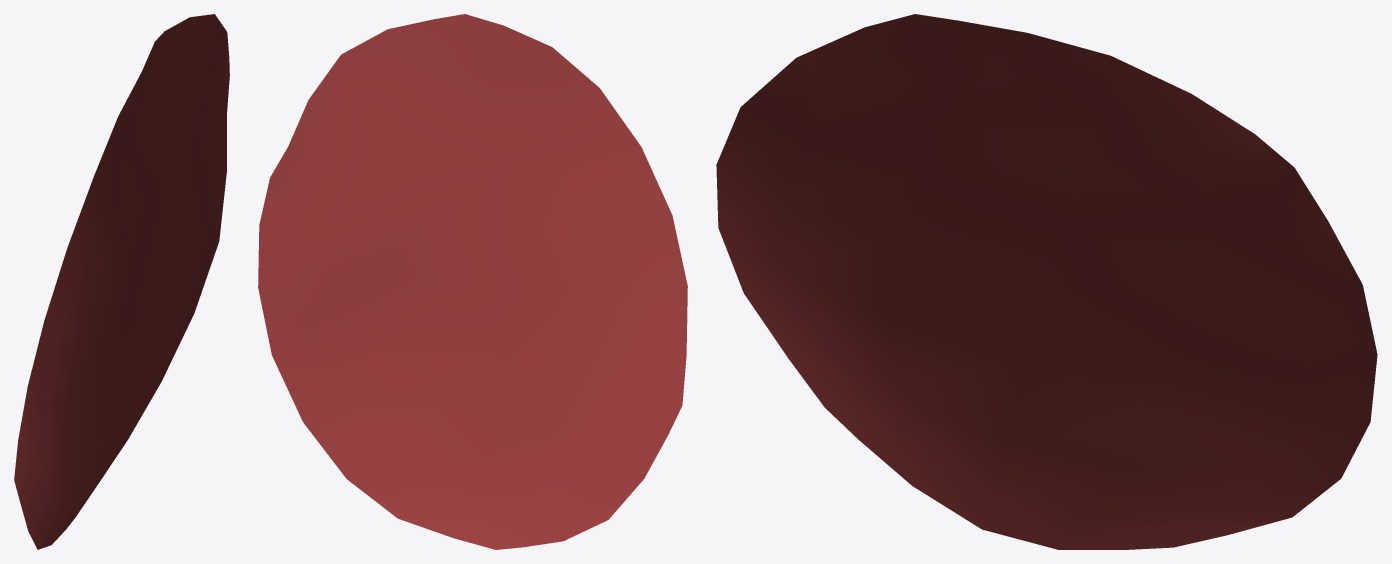
The model's file is semimembranosus-bursa-r.glb.
The picture shows the model from 3 angles, left to right: view 1: azimuth 30°, elevation 25°; view 2: azimuth 150°, elevation 25°; view 3: azimuth 270°, elevation 25°; orthographic projection. The views are drawn at different scales.
Visible parts, largest first — view 1: Semimembranosus bursa.r; view 2: Semimembranosus bursa.r; view 3: Semimembranosus bursa.r.
Boxes of the visible parts, box(x1,y1,x2,y2) form: Semimembranosus bursa.r: box(14, 14, 229, 549); Semimembranosus bursa.r: box(258, 14, 687, 549); Semimembranosus bursa.r: box(716, 14, 1377, 549).
Bounding box in the file's own units: 0.0116 × 0.0207 × 0.0192.
